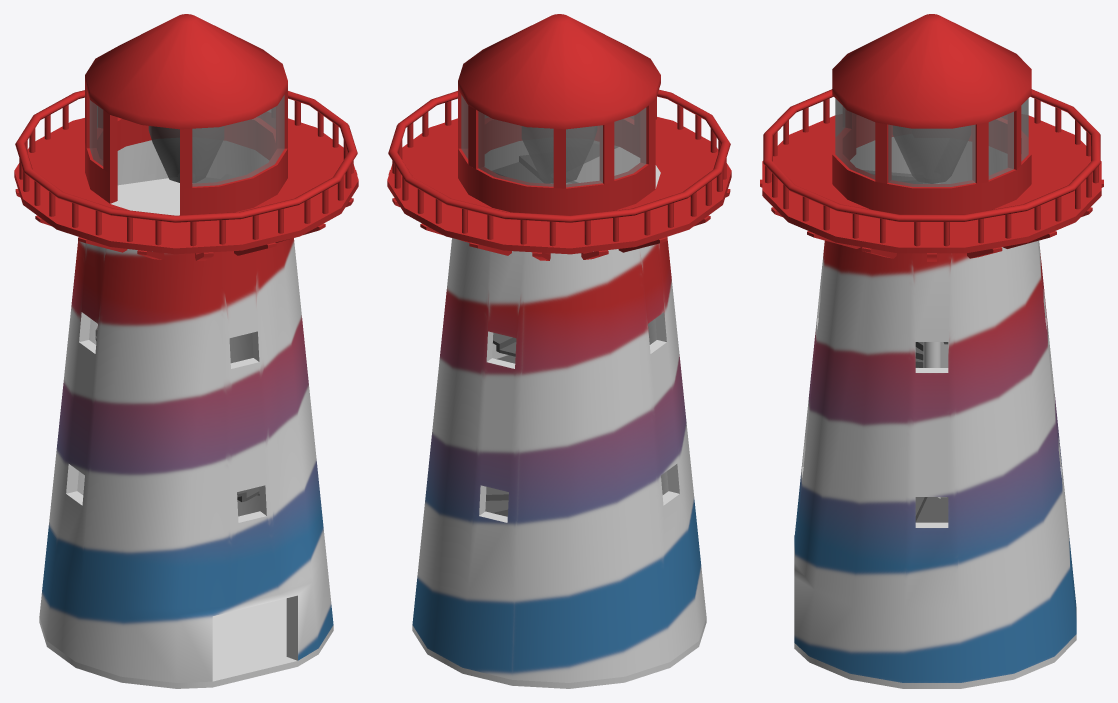
File: lighthouse.glb
3 views of the same model, side by side, from view 1: azimuth 30°, elevation 25°; view 2: azimuth 150°, elevation 25°; view 3: azimuth 270°, elevation 25° (orthographic).
Visible parts, largest first — view 1: Lighthouse, LighthouseCeiling, LighthousePlatform, LighthousePlatformHandrail, LighthouseGlass, LighthouseFresnelLens, LighthousePlatformBeams; view 2: Lighthouse, LighthouseCeiling, LighthousePlatform, LighthouseGlass, LighthousePlatformHandrail, LighthouseFresnelLens, LighthouseStairStep, LighthousePlatformBeams; view 3: Lighthouse, LighthouseCeiling, LighthousePlatform, LighthouseGlass, LighthousePlatformHandrail, LighthouseFresnelLens, LighthouseStairStep, LighthousePlatformBeams.
Part boxes in pixels (x1,y1,x2,y2): Lighthouse: (39,140,333,688); LighthouseCeiling: (85,14,287,215); LighthousePlatform: (14,118,358,254); LighthousePlatformHandrail: (15,90,357,246); LighthouseGlass: (89,95,284,186); LighthouseFresnelLens: (148,126,223,182); LighthousePlatformBeams: (15,170,357,260); Lighthouse: (412,141,706,688); LighthouseCeiling: (458,14,660,215); LighthousePlatform: (387,117,731,254); LighthouseGlass: (461,95,646,187); LighthousePlatformHandrail: (388,89,730,246); LighthouseFresnelLens: (522,126,596,182); LighthouseStairStep: (485,143,599,516); LighthousePlatformBeams: (388,170,730,260); Lighthouse: (794,137,1076,688); LighthouseCeiling: (832,14,1031,214); LighthousePlatform: (762,115,1101,253); LighthouseGlass: (835,98,1028,186); LighthousePlatformHandrail: (763,89,1100,246); LighthouseFresnelLens: (893,126,970,183); LighthouseStairStep: (873,174,948,522); LighthousePlatformBeams: (760,179,1103,261).
Size of the model in its own units: 10.48 by 20.5 by 10.48.
Materials: 6 (1 with a texture image).
